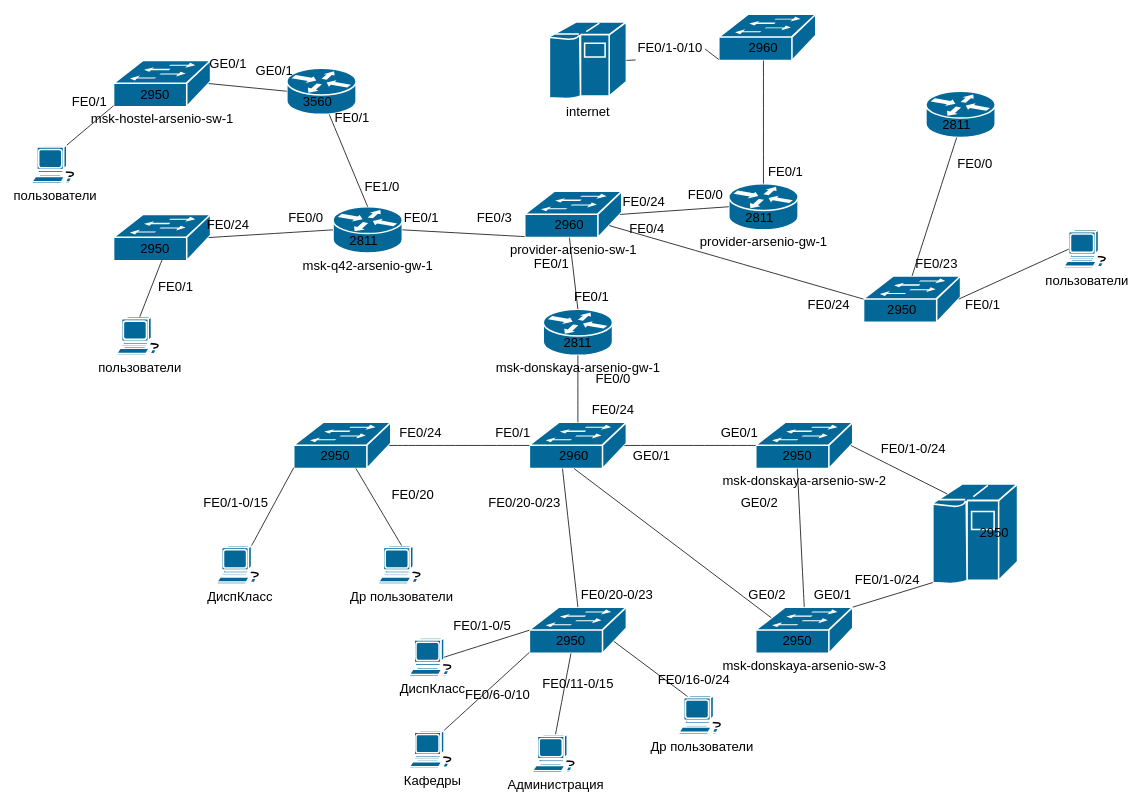
The diagram is 1141 pixels wide and 806 high, and some of its shapes have lost their labels. Each missing label, with the box of its shape:
internet-arsenio-sw-1: (718, 13, 816, 61)
msk-donskaya-arsenio-sw-1: (528, 421, 627, 469)
msk-donskaya-arsenio-sw-4: (528, 606, 627, 654)
msk-hostel-arsenio-gw-1: (286, 67, 357, 115)
msk-pavlovskaya-arsenio-sw-1: (293, 421, 391, 469)
msk-q42-arsenio-sw-1: (112, 213, 211, 261)
sch-sochi-arsenio-gw-1: (925, 90, 996, 138)
sch-sochi-arsenio-sw-1: (862, 275, 961, 323)
Серверная ферма: (932, 483, 1018, 584)
